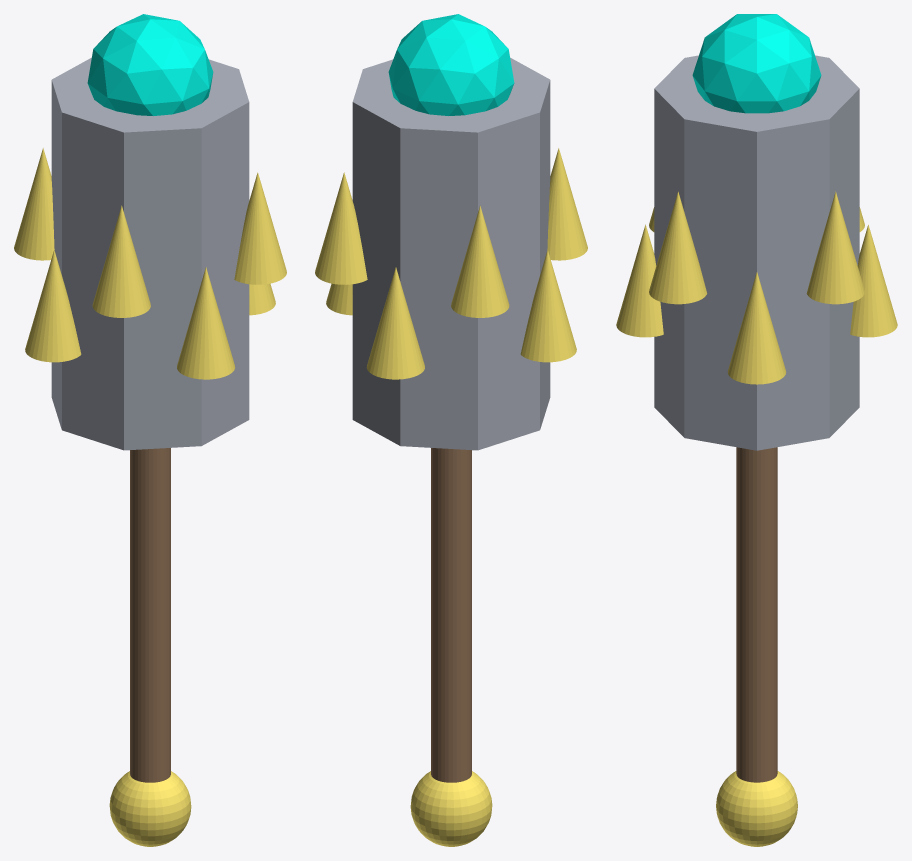
File: megabonk_club.glb
The picture shows the model from 3 angles, left to right: view 1: azimuth 30°, elevation 25°; view 2: azimuth 150°, elevation 25°; view 3: azimuth 270°, elevation 25°; orthographic projection.
Parts seen in each view (by area): view 1: Cylinder.001, Cylinder, Icosphere, Sphere, Cone.004, Cone.005, Cone.006, Cone.003, Cone.007, Cone.002; view 2: Cylinder.001, Cylinder, Icosphere, Sphere, Cone, Cone.007, Cone.006, Cone.001, Cone.005, Cone.002; view 3: Cylinder.001, Cylinder, Icosphere, Sphere, Cone.002, Cone.001, Cone.003, Cone, Cone.004.
Part boxes in pixels (<box>): Cylinder.001: <box>51,57,249,450</box>; Cylinder: <box>130,448,170,782</box>; Icosphere: <box>87,14,213,115</box>; Sphere: <box>109,771,191,846</box>; Cone.004: <box>177,267,235,379</box>; Cone.005: <box>92,205,150,317</box>; Cone.006: <box>25,250,81,362</box>; Cone.003: <box>234,172,286,284</box>; Cone.007: <box>14,148,54,260</box>; Cone.002: <box>249,283,275,315</box>; Cylinder.001: <box>352,57,550,450</box>; Cylinder: <box>431,448,471,782</box>; Icosphere: <box>388,14,514,115</box>; Sphere: <box>410,771,492,846</box>; Cone: <box>366,267,424,379</box>; Cone.007: <box>451,205,509,317</box>; Cone.006: <box>520,250,576,362</box>; Cone.001: <box>315,172,367,284</box>; Cone.005: <box>547,148,587,260</box>; Cone.002: <box>326,283,352,315</box>; Cylinder.001: <box>654,55,859,450</box>; Cylinder: <box>736,447,777,782</box>; Icosphere: <box>692,14,821,113</box>; Sphere: <box>716,771,797,846</box>; Cone.002: <box>727,272,786,384</box>; Cone.001: <box>806,191,864,304</box>; Cone.003: <box>649,191,707,304</box>; Cone: <box>850,224,897,337</box>; Cone.004: <box>616,224,663,337</box>.
Bounding box in the file's own units: 0.96 × 3.11 × 0.96.
